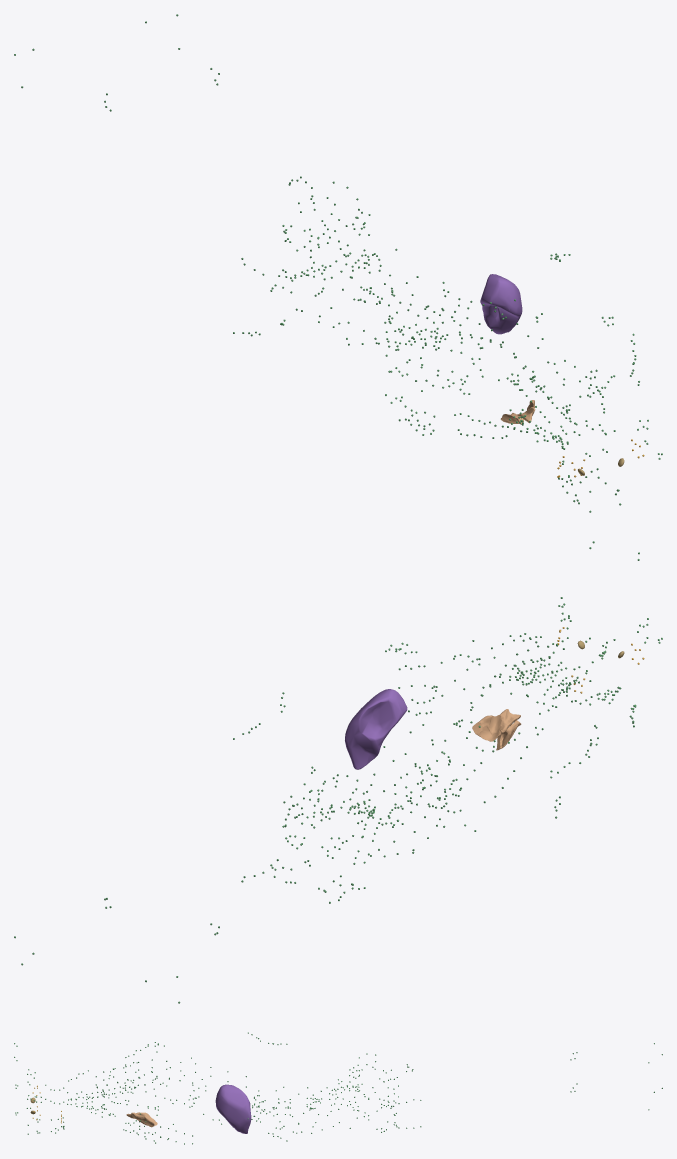
File: lymphatic.glb
3 views of the same model, one above another, from view 1: azimuth 30°, elevation 25°; view 2: azimuth 150°, elevation 25°; view 3: azimuth 270°, elevation 25° (orthographic). The views are drawn at different scales.
Parts seen in each view (by area): view 1: 脾; view 2: 脾, 胸腺左叶; view 3: 脾.
Boxes of the visible parts, <box> form: 脾: <box>480,274,522,334</box>; 脾: <box>345,689,407,769</box>; 胸腺左叶: <box>472,709,520,741</box>; 脾: <box>215,1084,251,1133</box>.
Bounding box in the file's own units: 0.6666 × 0.2894 × 1.88.
